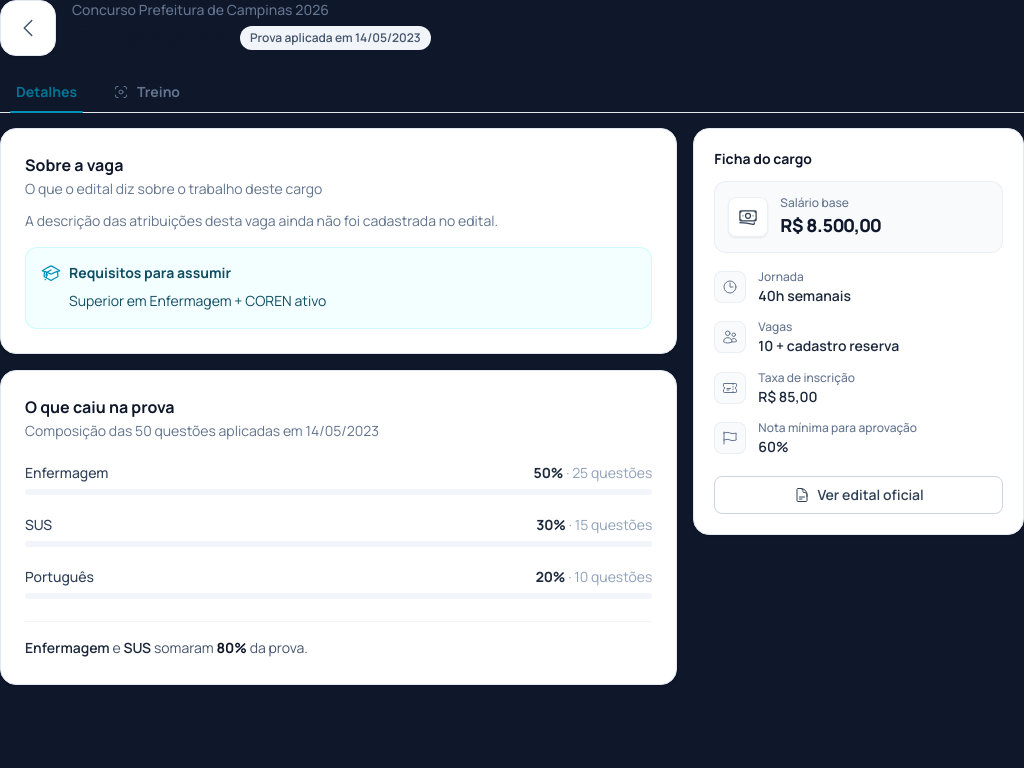
Test: página do cargo — aba Treino (prova passada) › treino finalizado: "Começar novo ciclo" + "Ver resultado"
Click the tab "Treino" at point(147, 92), box [97,72,196,112]
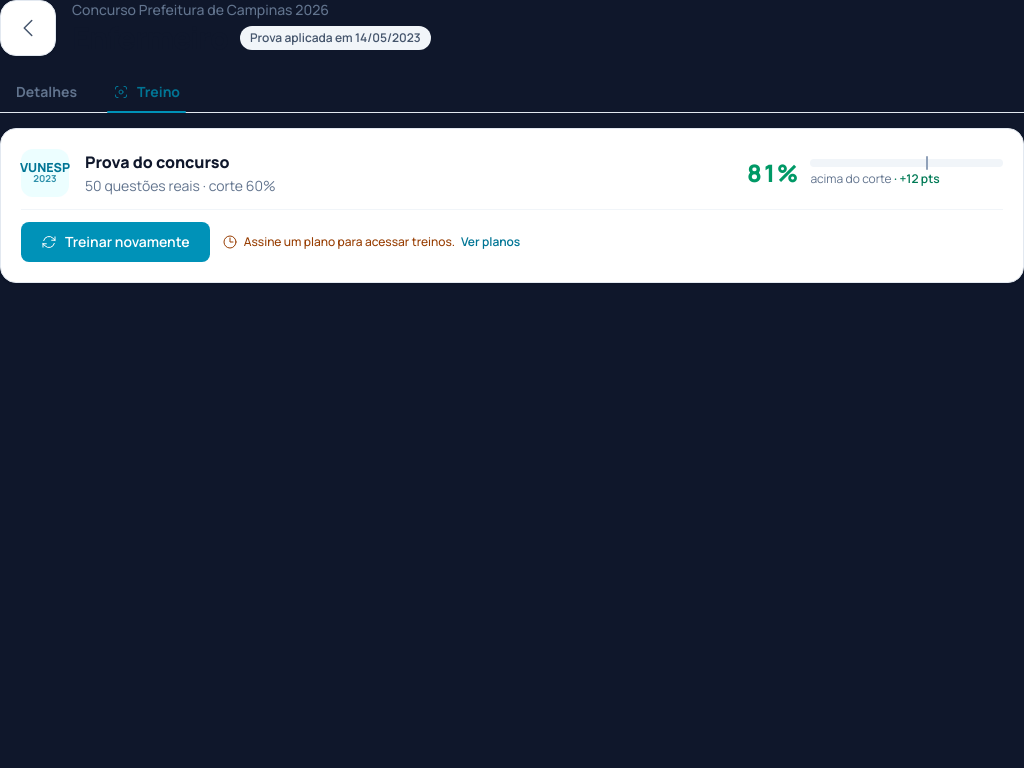
Click the button "Treinar novamente" at point(115, 242), box [21,222,210,262]
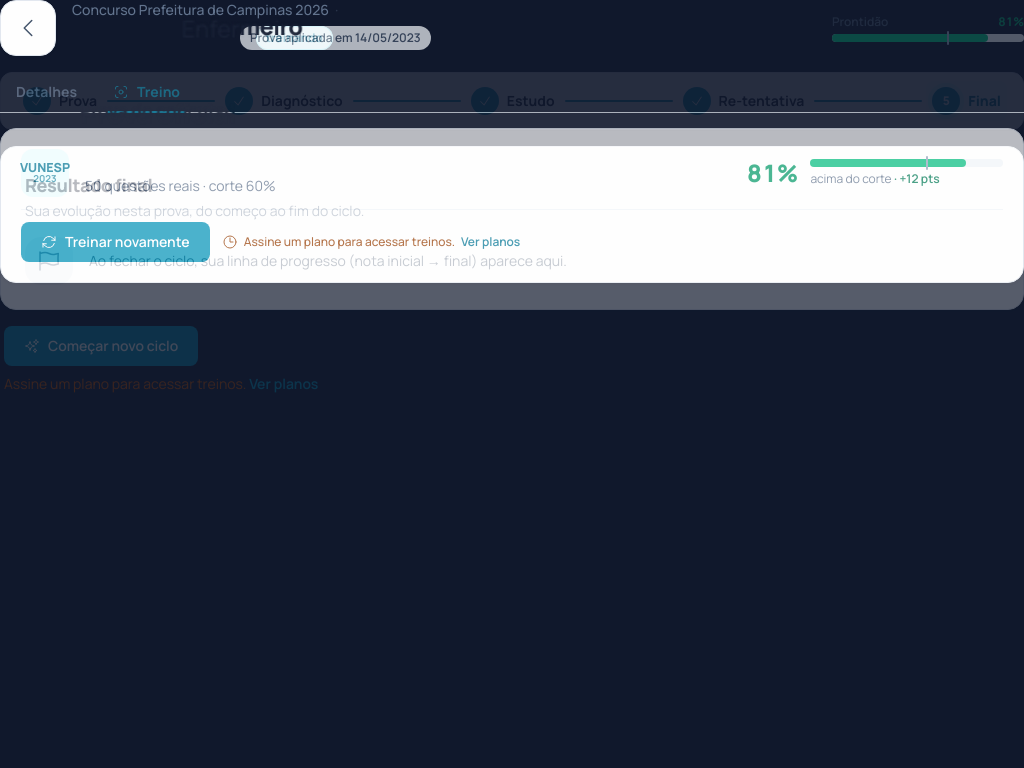
Now the button "Começar novo ciclo" is shown, box [4,326,198,366]
Now the heading "Resultado final" is shown, box [25,173,152,197]
